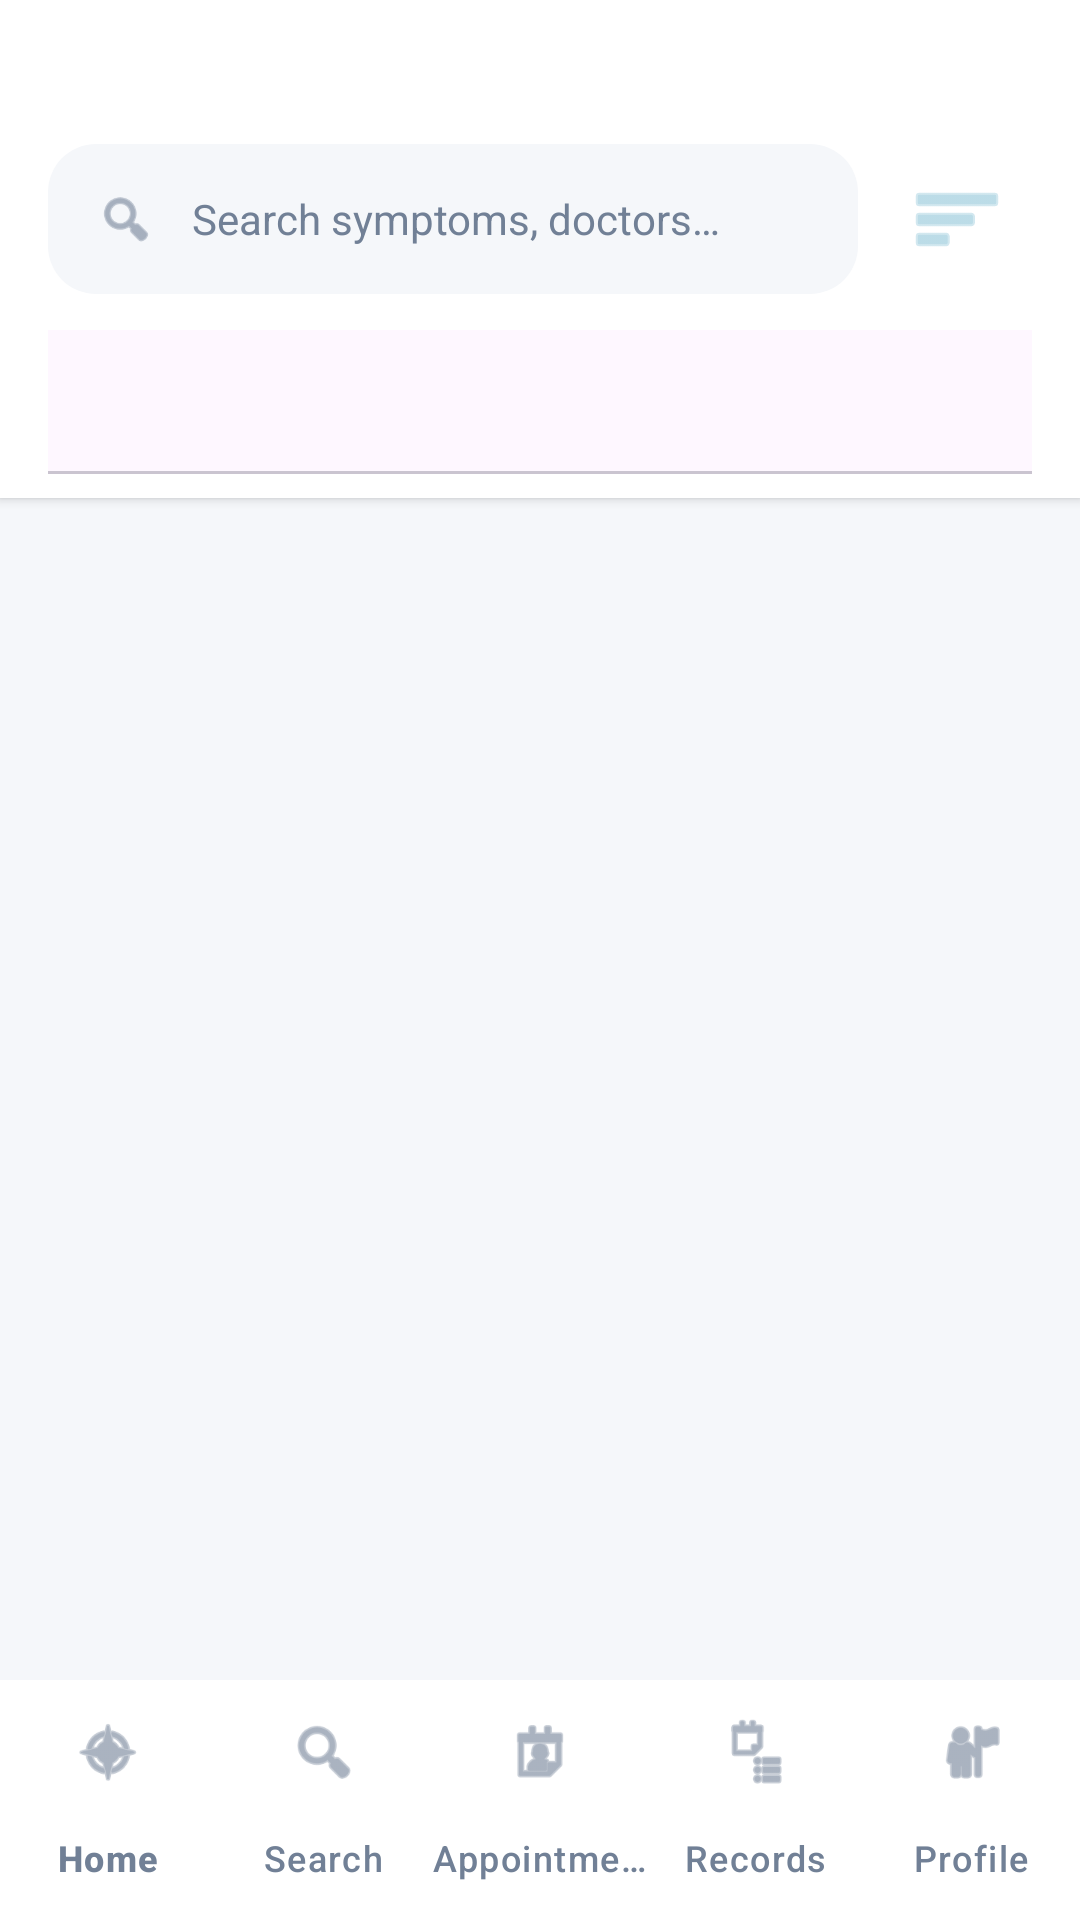

Icons on this 1080x1920 Android screen, each with its box as BBox(x1, y1, x2, y2):
sort by size: BBox(916, 193, 998, 246)
